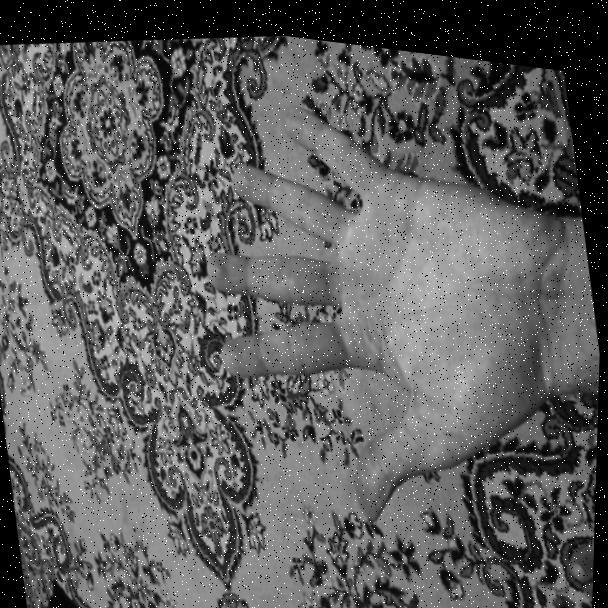five: (162, 39, 607, 557)
